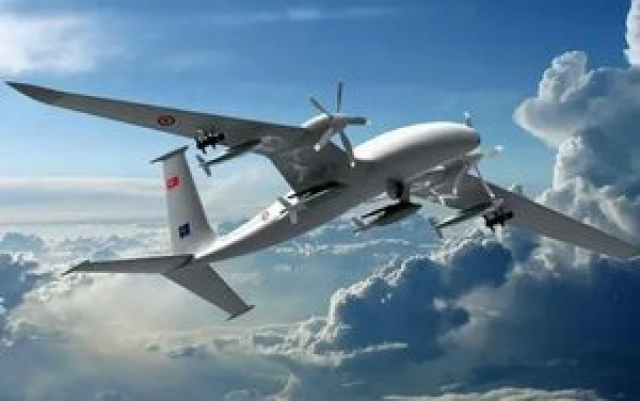military drone: (3, 81, 620, 321)
